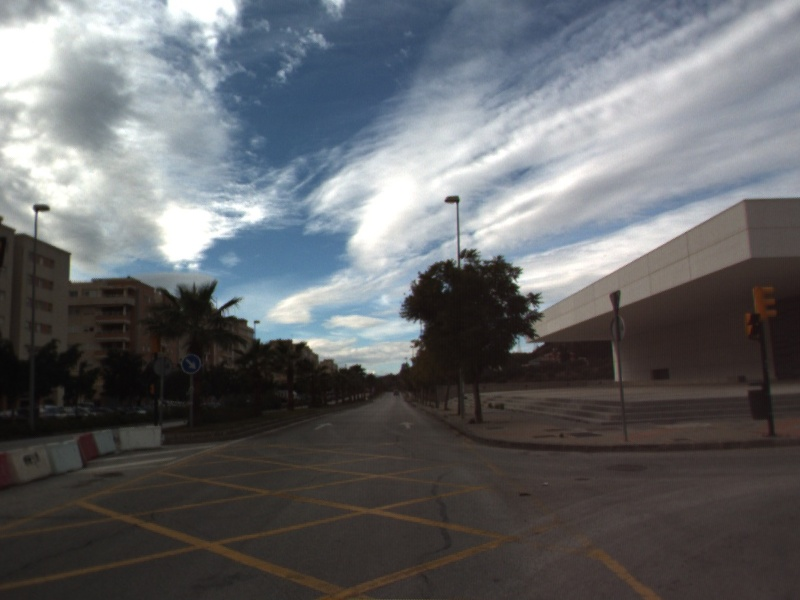STRAIGHT: (312, 420, 335, 432), (397, 420, 417, 431)
